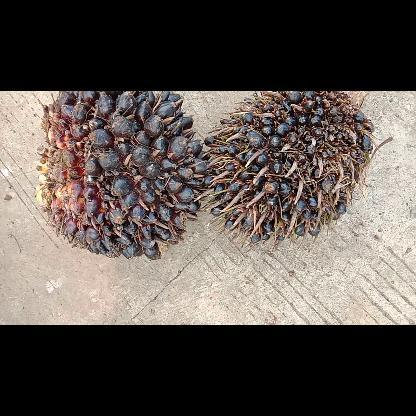TBS mentah: (31, 91, 207, 259), (202, 90, 376, 248)
